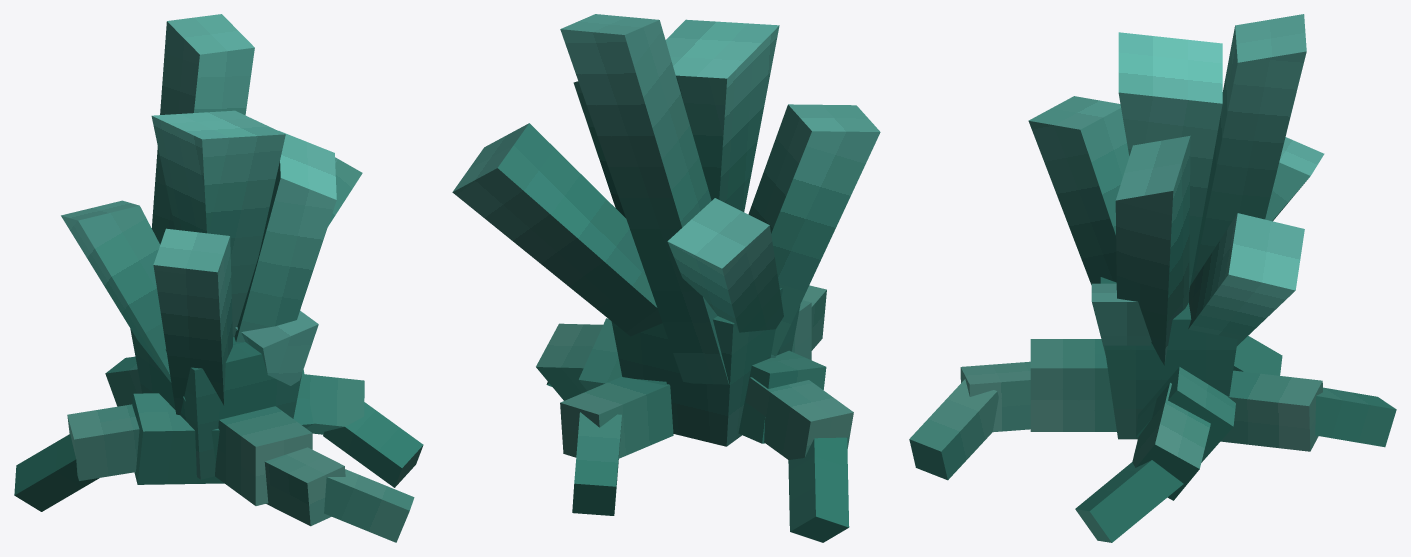
Rendered from crystal.obj.
The picture shows the model from 3 angles, left to right: view 1: azimuth 30°, elevation 25°; view 2: azimuth 150°, elevation 25°; view 3: azimuth 270°, elevation 25°; orthographic projection. The views are drawn at different scales.
Parts seen in each view (by area): view 1: crystalBase, tendrils; view 2: crystalBase, tendrils; view 3: crystalBase, tendrils.
Boxes of the visible parts, bbox=[...] form: crystalBase: bbox=[61, 14, 362, 479]; tendrils: bbox=[14, 356, 423, 542]; crystalBase: bbox=[452, 14, 880, 446]; tendrils: bbox=[536, 285, 853, 542]; crystalBase: bbox=[1028, 14, 1324, 439]; tendrils: bbox=[909, 335, 1396, 542].
Bounding box in the file's own units: 0.7429 × 0.9168 × 0.8699.
